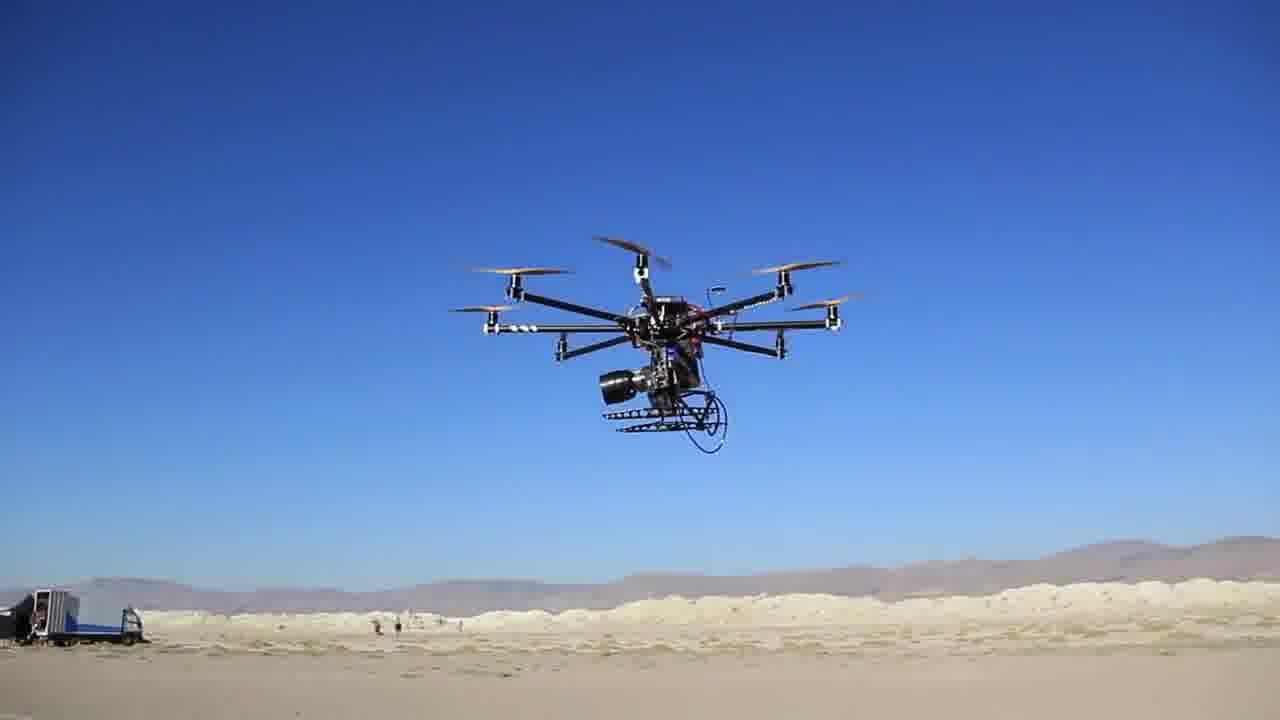drone: (470, 203, 849, 438)
